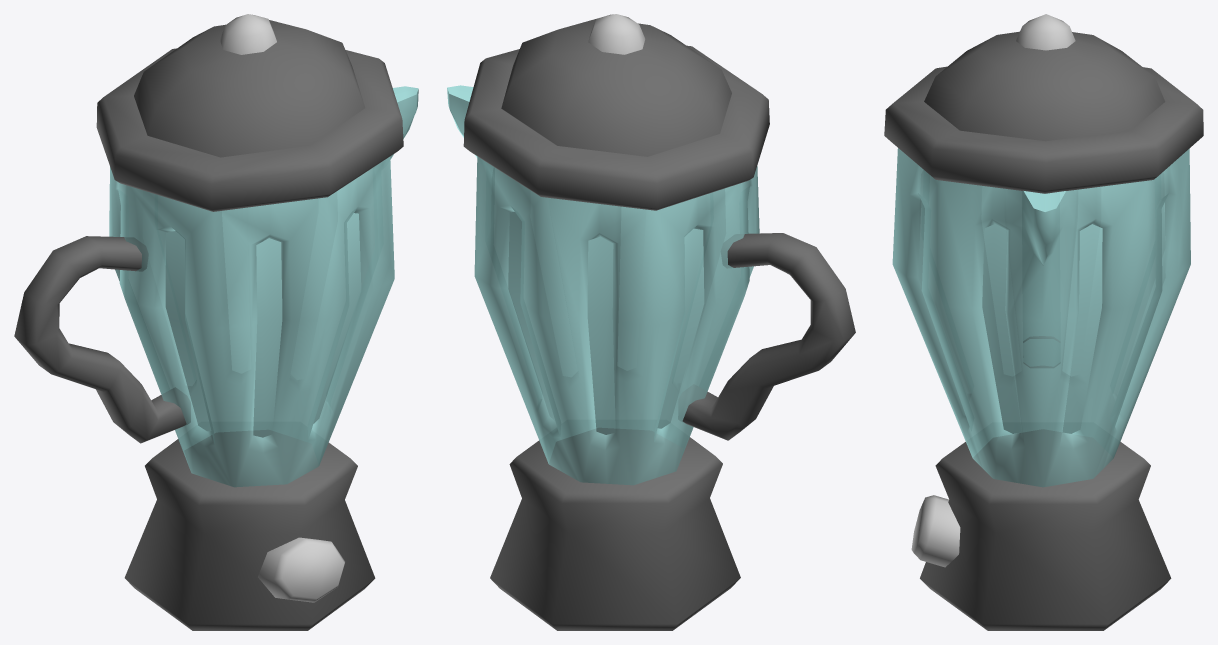
The model's file is props_blender.fbx.
The picture shows the model from 3 angles, left to right: view 1: azimuth 30°, elevation 25°; view 2: azimuth 150°, elevation 25°; view 3: azimuth 270°, elevation 25°; orthographic projection.
Parts seen in each view (by area): view 1: Blender; view 2: Blender; view 3: Blender.
Boxes of the visible parts, left/top/right/bottom form: Blender: left=14, top=14, right=418, bottom=630; Blender: left=447, top=14, right=855, bottom=630; Blender: left=884, top=14, right=1203, bottom=630.
Size of the model in its own units: 75.32 by 103 by 52.09.
